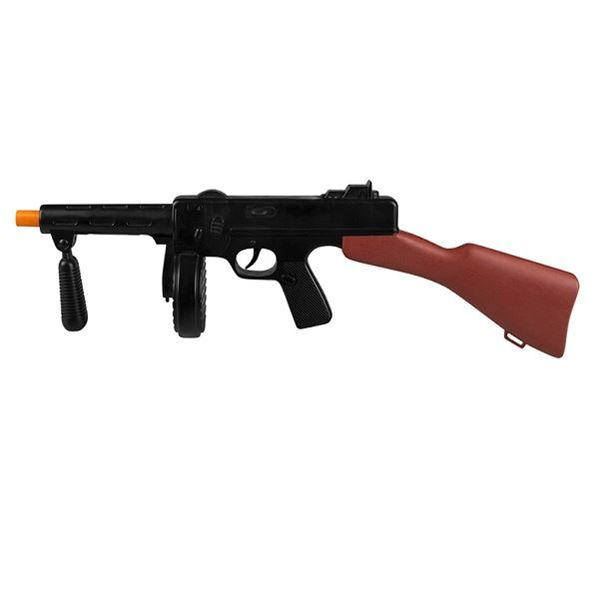Arma Falsa: (11, 178, 581, 380)
